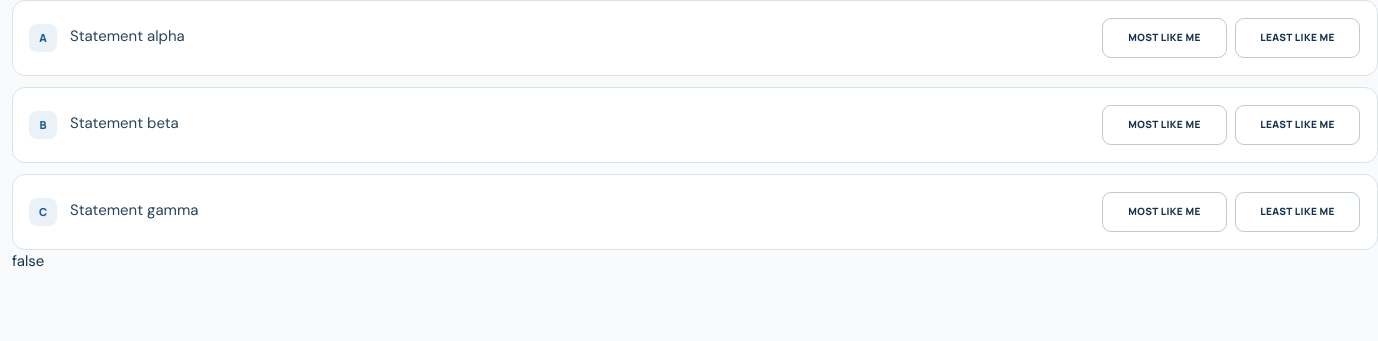
Test: response components › requires different MOST and LEAST statements
Click the button with aria-label "Most like me: Statement alpha".
click(1164, 38)  # box top-left (1102, 18), bottom-right (1227, 58)
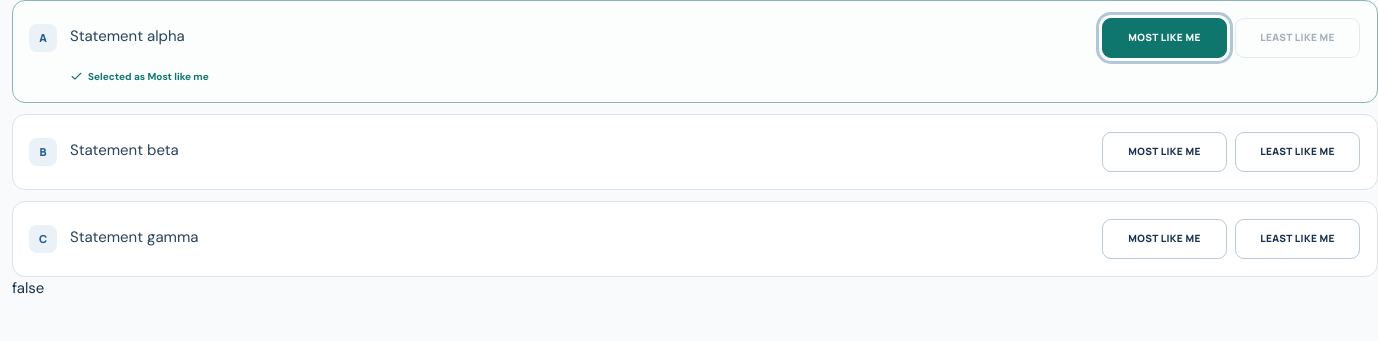
Expected: the text with test id "valid" reads "false", top-left (12, 278), bottom-right (44, 298)
Expected: the button with aria-label "Least like me: Statement alpha" is disabled, top-left (1235, 18), bottom-right (1360, 58)
Click the button with aria-label "Least like me: Statement beta".
click(1298, 152)  # box top-left (1235, 132), bottom-right (1360, 172)
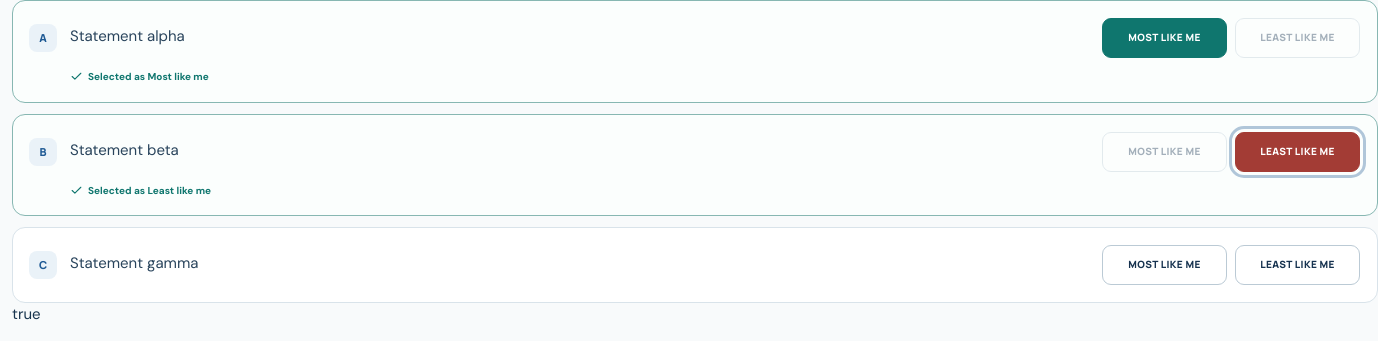
Expected: the text with test id "valid" reads "true", top-left (12, 304), bottom-right (40, 324)
